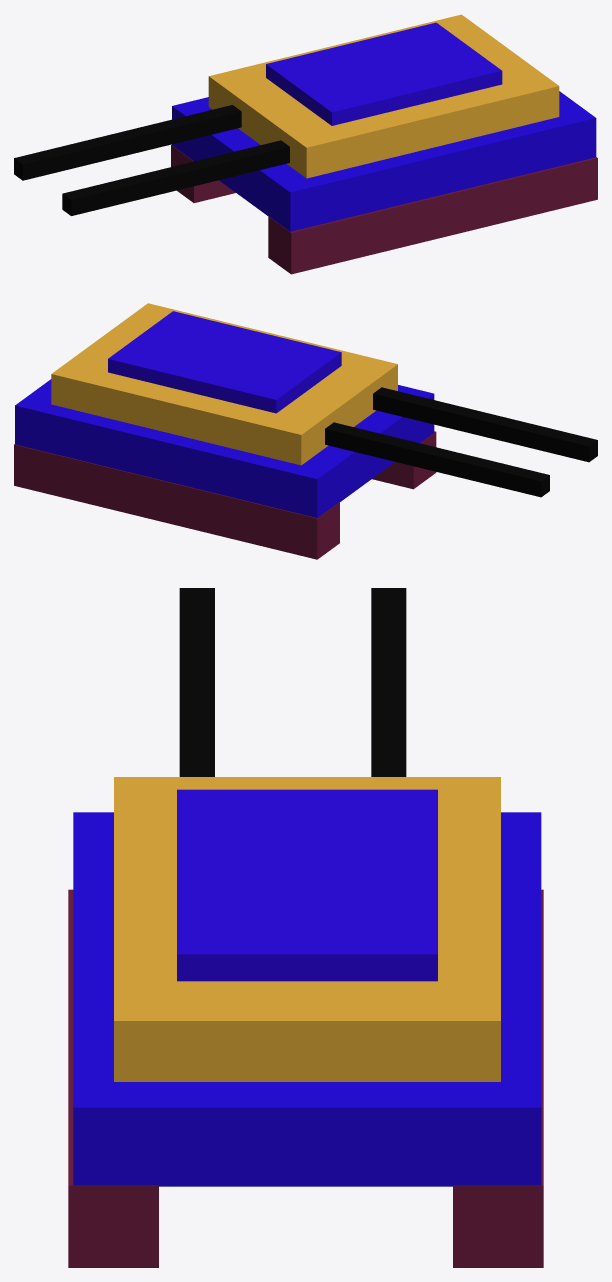
Rendered from bluetankdouble.glb.
3 renders of one model, top to bottom at view 1: azimuth 30°, elevation 25°; view 2: azimuth 150°, elevation 25°; view 3: azimuth 270°, elevation 25°, orthographic. The views are drawn at different scales.
Parts seen in each view (by area): view 1: Cube, Cube.005, Cube.007, Cube.002, Cube.004, Cube.003, Cube.001; view 2: Cube.005, Cube, Cube.007, Cube.001, Cube.003, Cube.004, Cube.002; view 3: Cube.005, Cube, Cube.007, Cube.002, Cube.001, Cube.003, Cube.004.
Part boxes in pixels (<box>): Cube: <box>208,14,559,178</box>; Cube.005: <box>172,91,596,231</box>; Cube.007: <box>266,22,502,125</box>; Cube.002: <box>268,157,597,274</box>; Cube.004: <box>62,140,289,215</box>; Cube.003: <box>14,105,241,180</box>; Cube.001: <box>171,145,235,202</box>; Cube.005: <box>15,379,434,517</box>; Cube: <box>51,303,397,465</box>; Cube.007: <box>108,311,341,413</box>; Cube.001: <box>14,444,339,559</box>; Cube.003: <box>325,422,549,497</box>; Cube.004: <box>373,387,597,462</box>; Cube.002: <box>372,431,436,489</box>; Cube.005: <box>73,812,541,1186</box>; Cube: <box>114,777,500,1081</box>; Cube.007: <box>177,789,437,981</box>; Cube.002: <box>68,889,158,1267</box>; Cube.001: <box>453,889,543,1267</box>; Cube.003: <box>371,588,406,776</box>; Cube.004: <box>179,588,214,776</box>.
Bounding box in the file's own units: 36.03 × 8.66 × 15.05.
